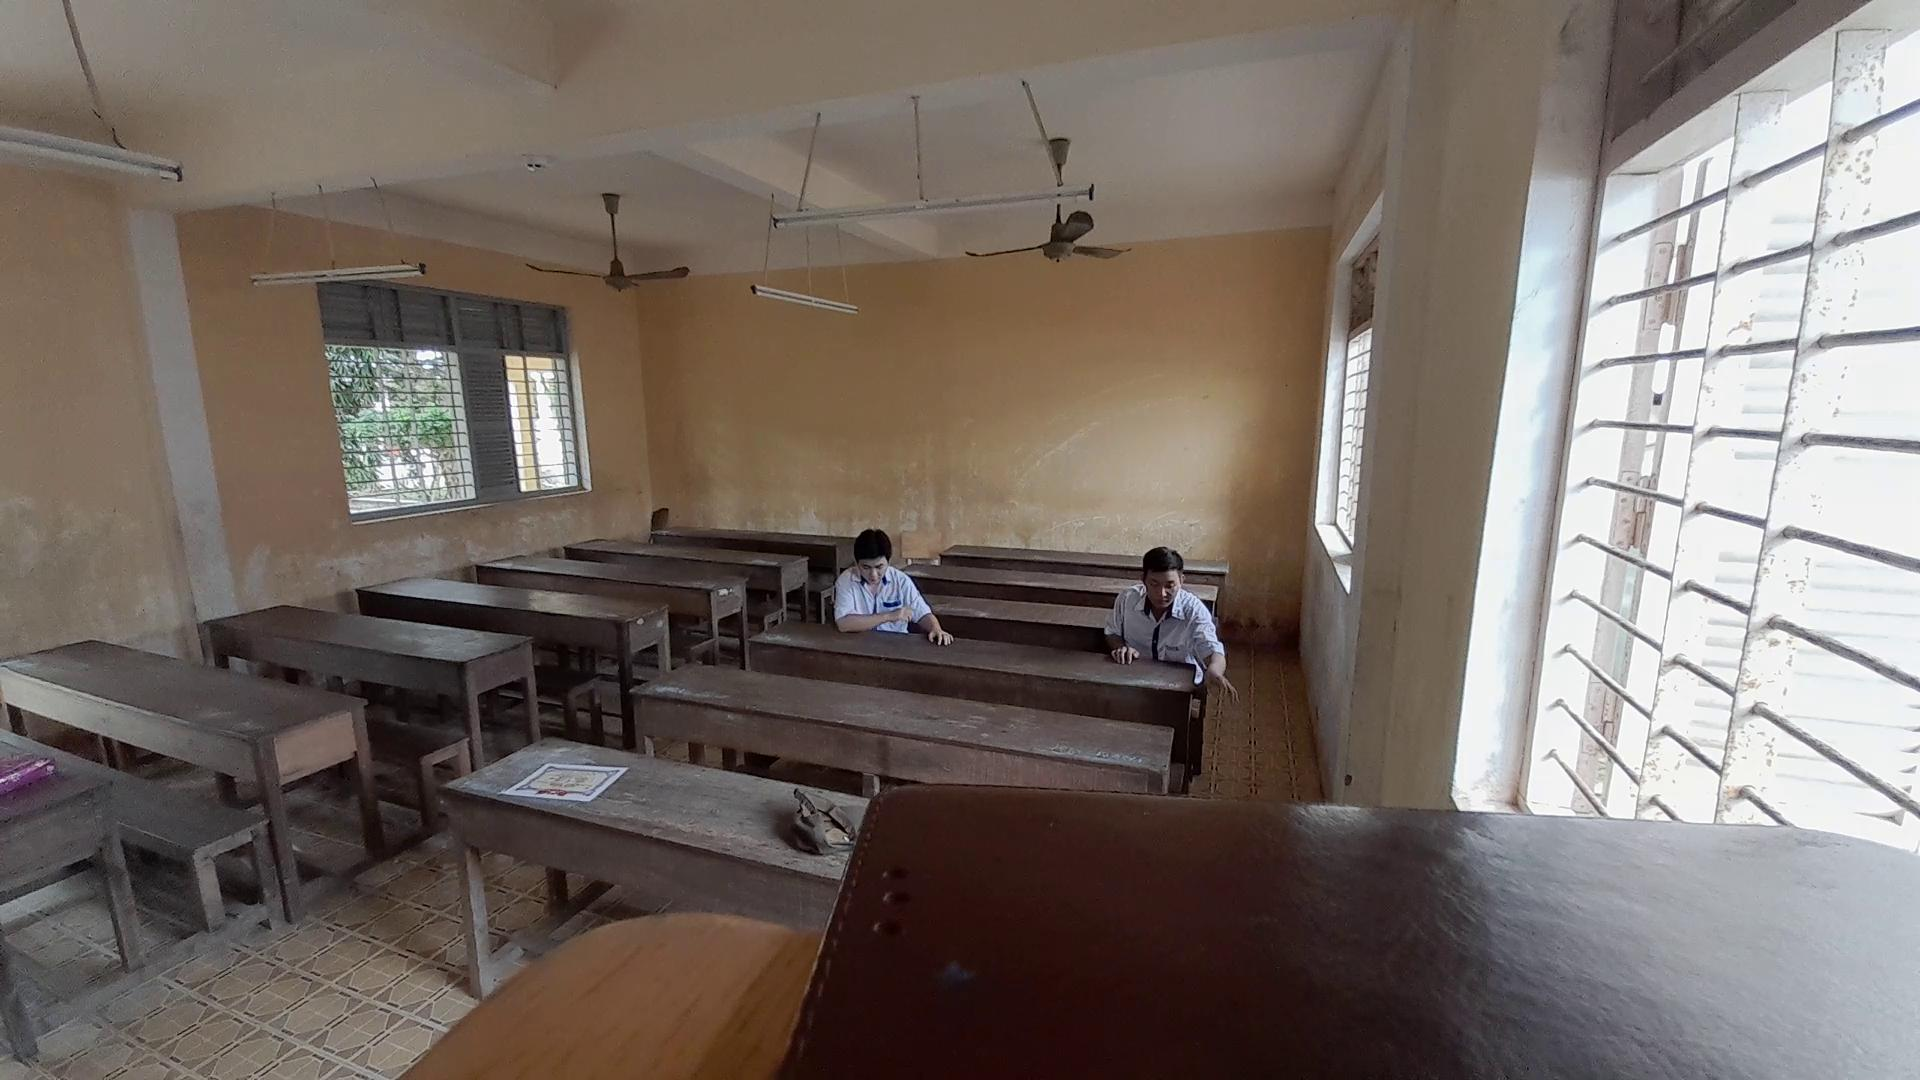Bend Over The Desk: (833, 508, 905, 604)
Normal: (1091, 529, 1199, 669)
Wave: (818, 591, 926, 638)
